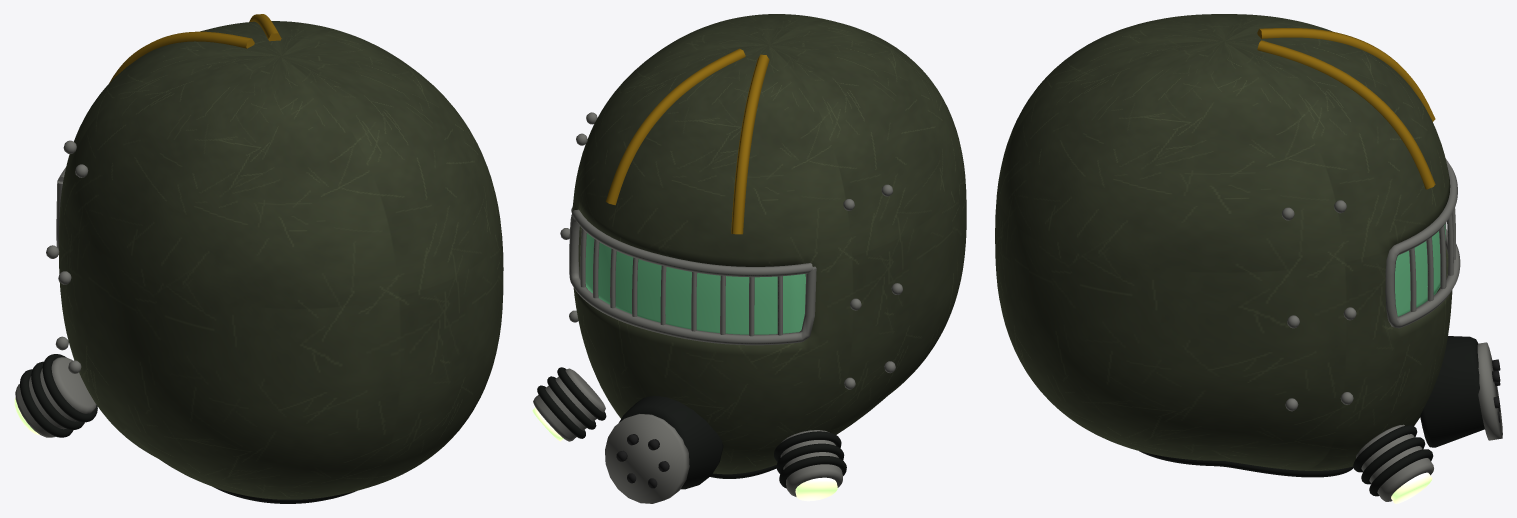
Rendered from casco_hazmat.glb.
3 views of the same model, side by side, from view 1: azimuth 30°, elevation 25°; view 2: azimuth 150°, elevation 25°; view 3: azimuth 270°, elevation 25° (orthographic). The views are drawn at different scales.
Parts seen in each view (by area): view 1: Casco_hazmat; view 2: Casco_hazmat; view 3: Casco_hazmat.
Boxes of the visible parts, <box> form: Casco_hazmat: <box>14,14,503,503</box>; Casco_hazmat: <box>532,14,966,503</box>; Casco_hazmat: <box>995,14,1502,503</box>.
Bounding box in the file's own units: 0.2516 × 0.285 × 0.3101.
7 materials, 4 textured.
